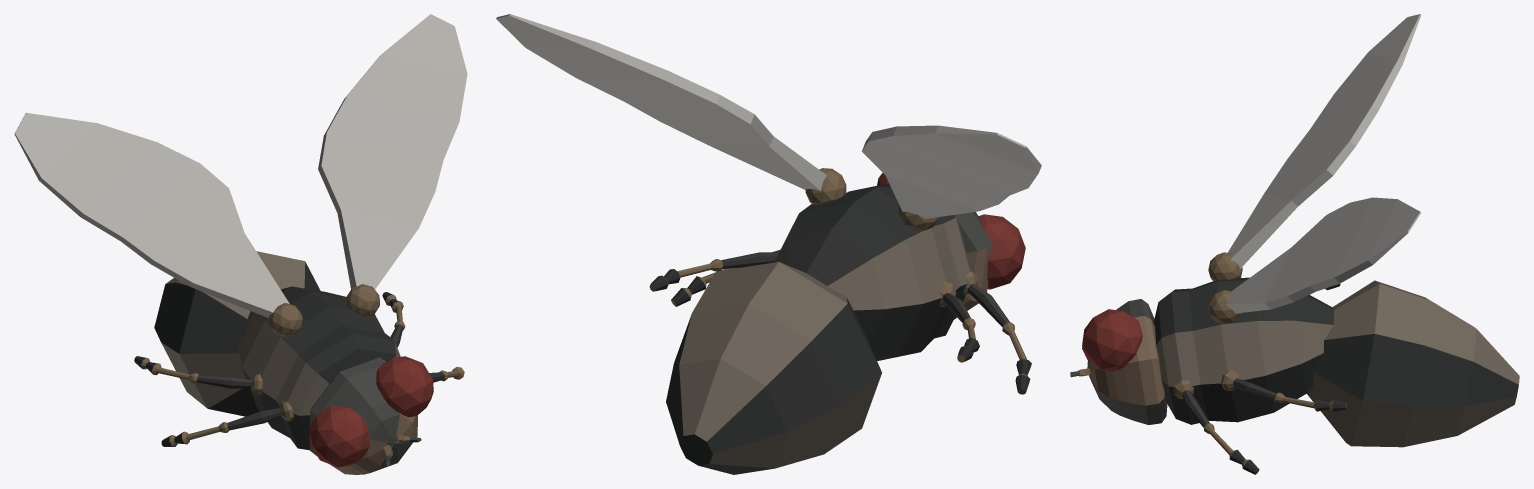
The model's file is Mosca.fbx.
3 views of the same model, side by side, from view 1: azimuth 30°, elevation 25°; view 2: azimuth 150°, elevation 25°; view 3: azimuth 270°, elevation 25° (orthographic). The views are drawn at different scales.
Parts seen in each view (by area): view 1: Mosca; view 2: Mosca; view 3: Mosca.
Part boxes in pixels (bbox=[...]): Mosca: bbox=[14, 14, 467, 474]; Mosca: bbox=[496, 14, 1041, 474]; Mosca: bbox=[1070, 14, 1519, 474].
Size of the model in its own units: 446 by 321 by 395.
